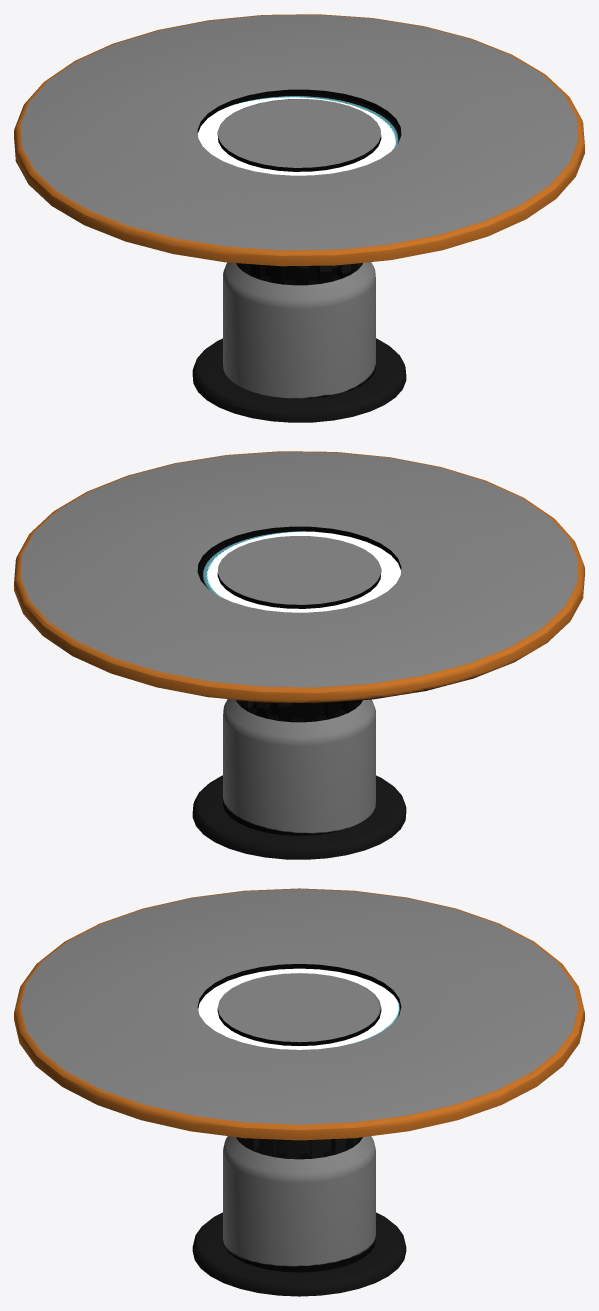
Rendered from Table_New.glb.
The picture shows the model from 3 angles, top to bottom: view 1: azimuth 30°, elevation 25°; view 2: azimuth 150°, elevation 25°; view 3: azimuth 270°, elevation 25°; orthographic projection.
Visible parts, largest first — view 1: Table; view 2: Table; view 3: Table.
Part boxes in pixels (x1=…): Table: x1=14, y1=14, x2=584, y2=422; Table: x1=14, y1=451, x2=584, y2=859; Table: x1=14, y1=888, x2=584, y2=1296.
Bounding box in the file's own units: 5.4 × 2.55 × 5.4.
1 material, 1 textured.
